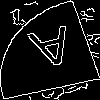A: (24, 25, 81, 80)
